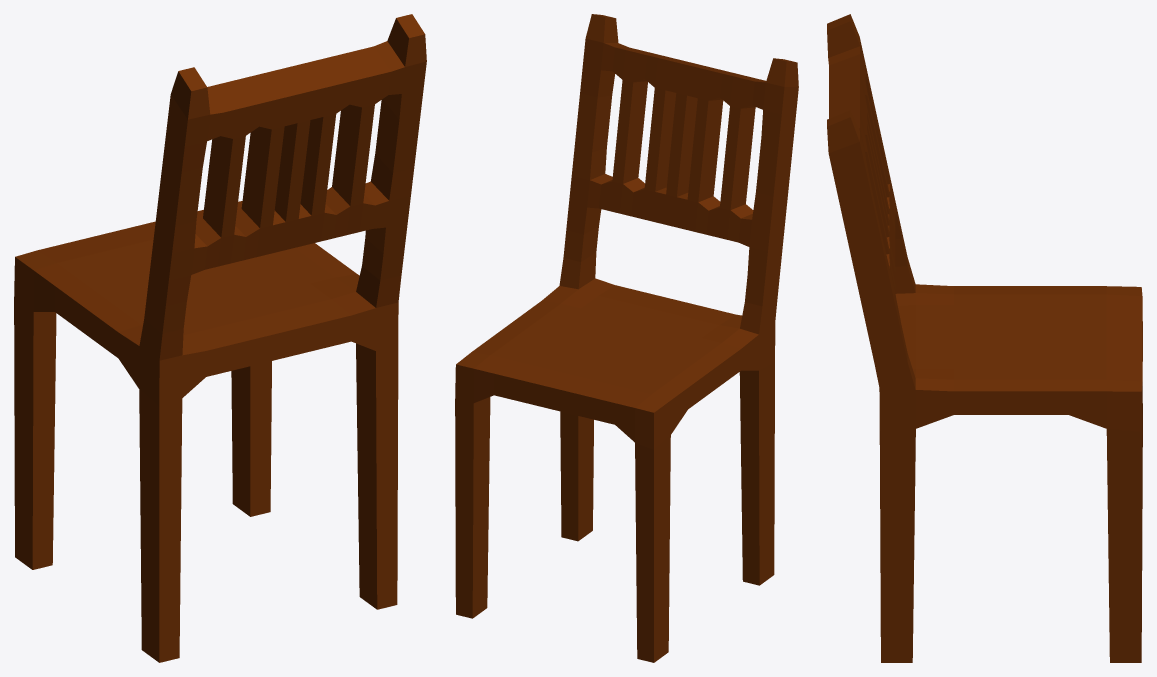
Rendered from _hair1.fbx.
The picture shows the model from 3 angles, left to right: view 1: azimuth 30°, elevation 25°; view 2: azimuth 150°, elevation 25°; view 3: azimuth 270°, elevation 25°; orthographic projection. The views are drawn at different scales.
Visible parts, largest first — view 1: Cube; view 2: Cube; view 3: Cube.
Part boxes in pixels (x1,y1,x2,y2): Cube: (14,14,426,662); Cube: (455,14,798,662); Cube: (827,14,1142,662).
Size of the model in its own units: 252 by 608 by 319.
